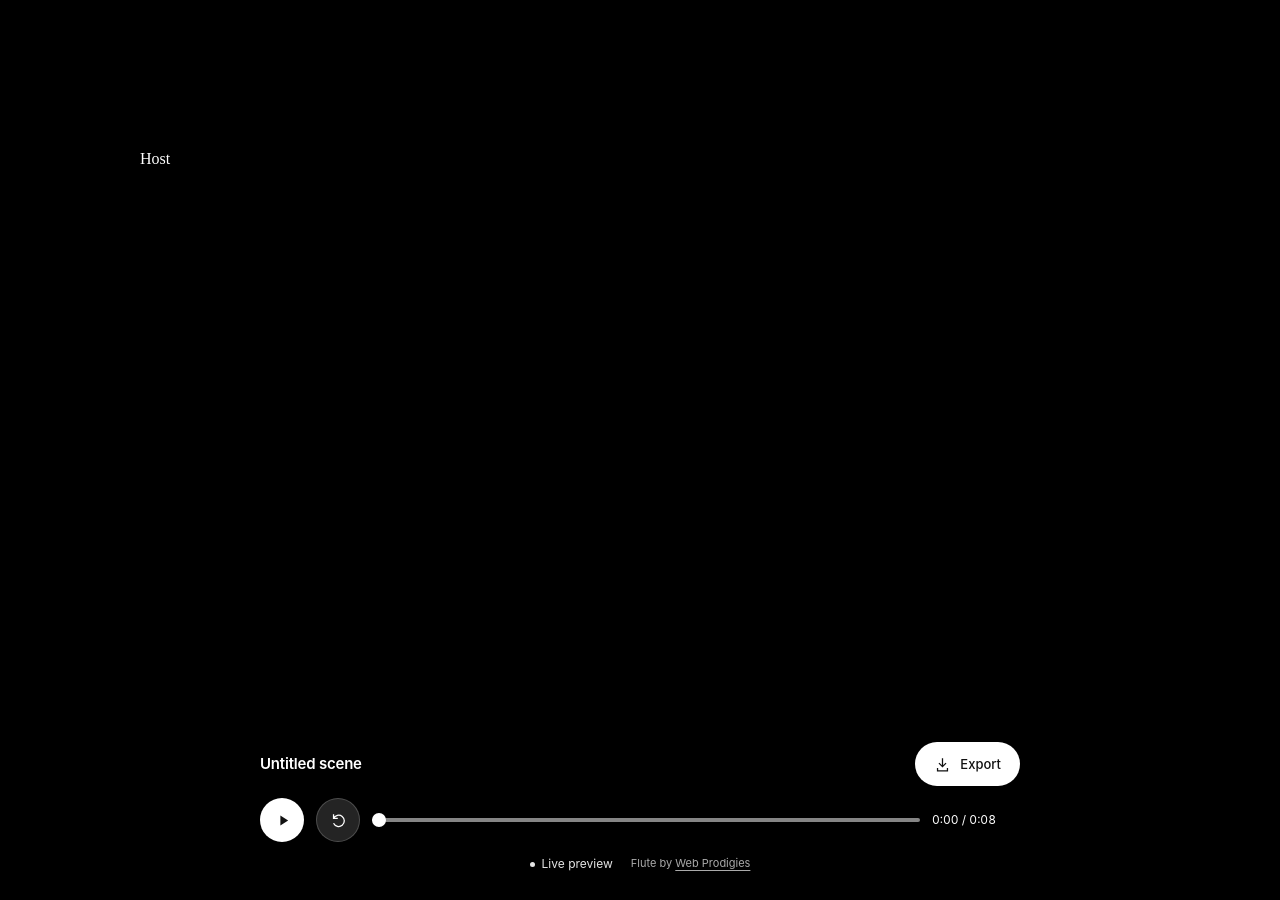
Scenario: opens export above the action row, supports frame rate and copy recovery, and restores keyboard focus on Escape
Click the heading "Export". click: (968, 764)
box: [915,742,1020,786]
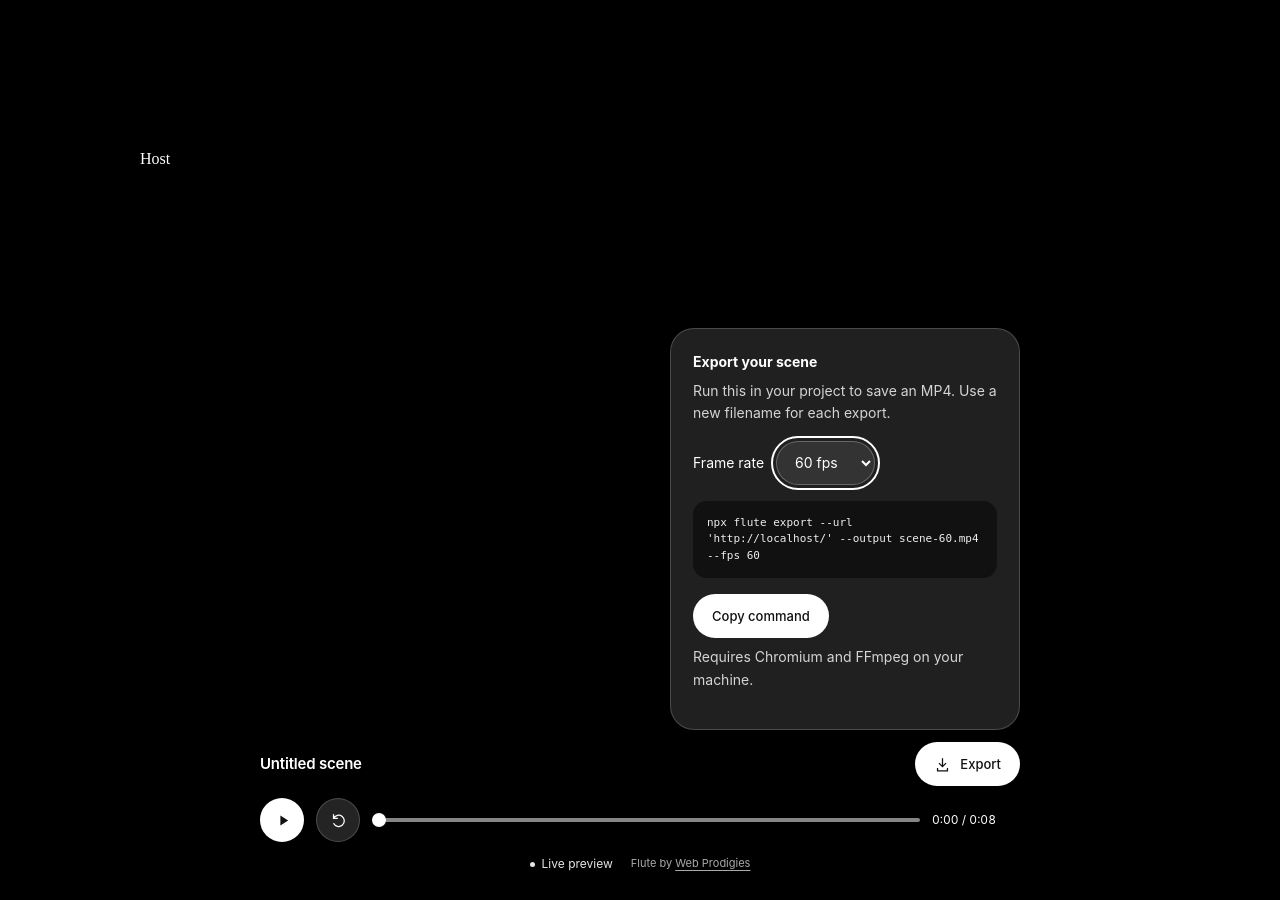
Select "30 fps" in the dropdown named "Export frame rate". click: (826, 463)
box: [776,441,875,485]
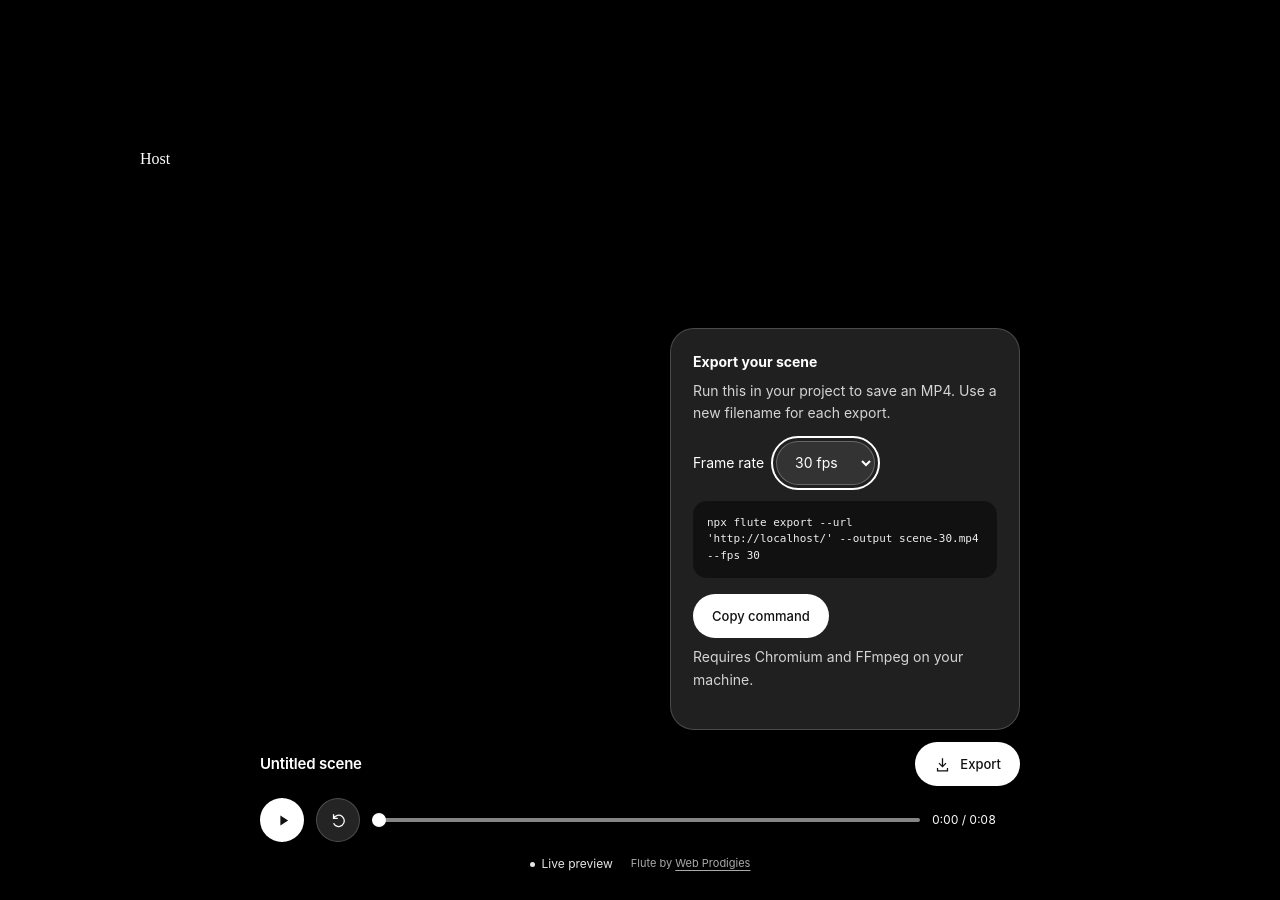
expect the element "Export your scene" shows "--fps 30": met, box [707,516,985,562]
Click the button "Copy command". click: (761, 616)
box: [693,594,829,638]
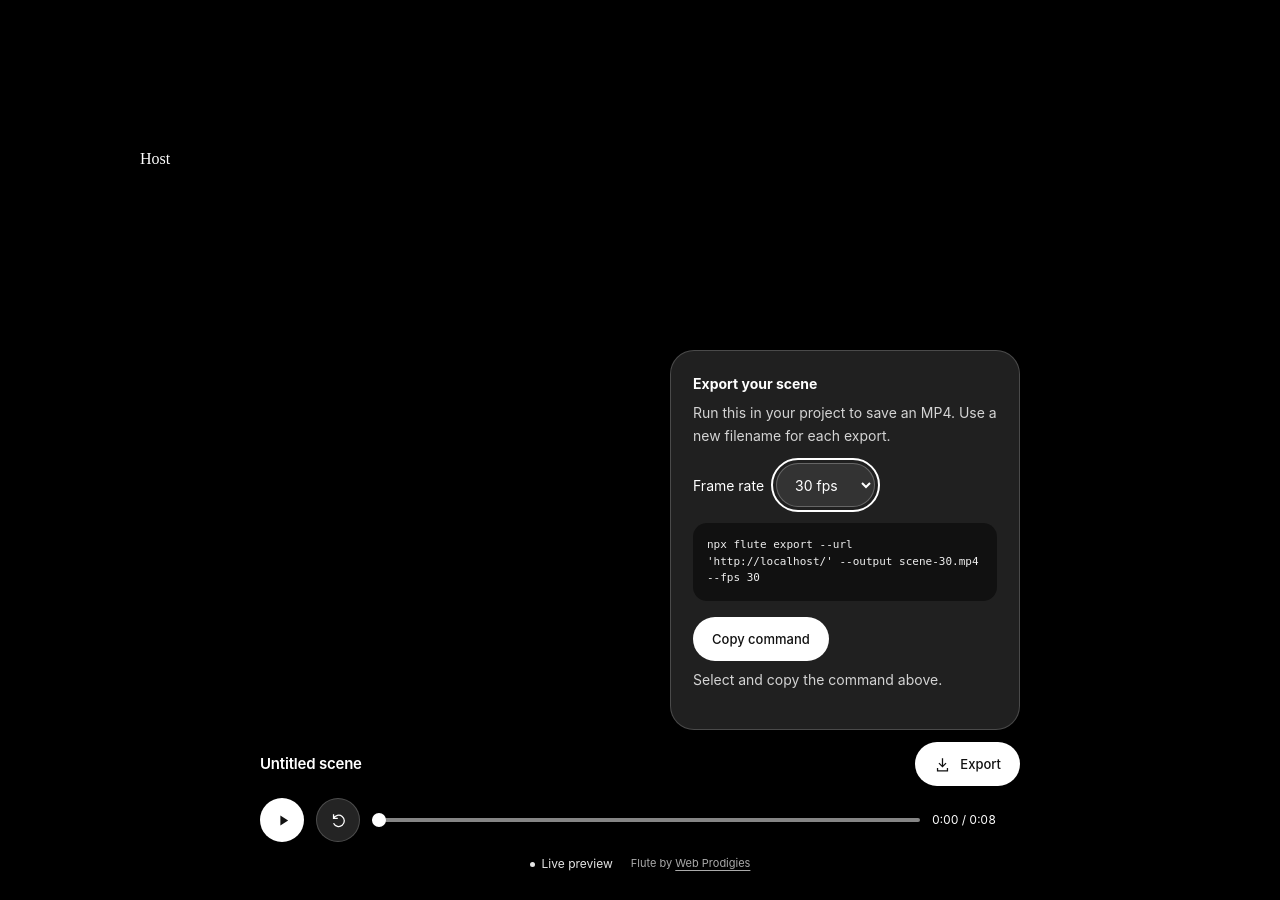
expect the message "Select and copy the command above." is shown: met, box [693,671,942,688]
Click the button "Copy command". click: (761, 639)
box: [693,617,829,661]
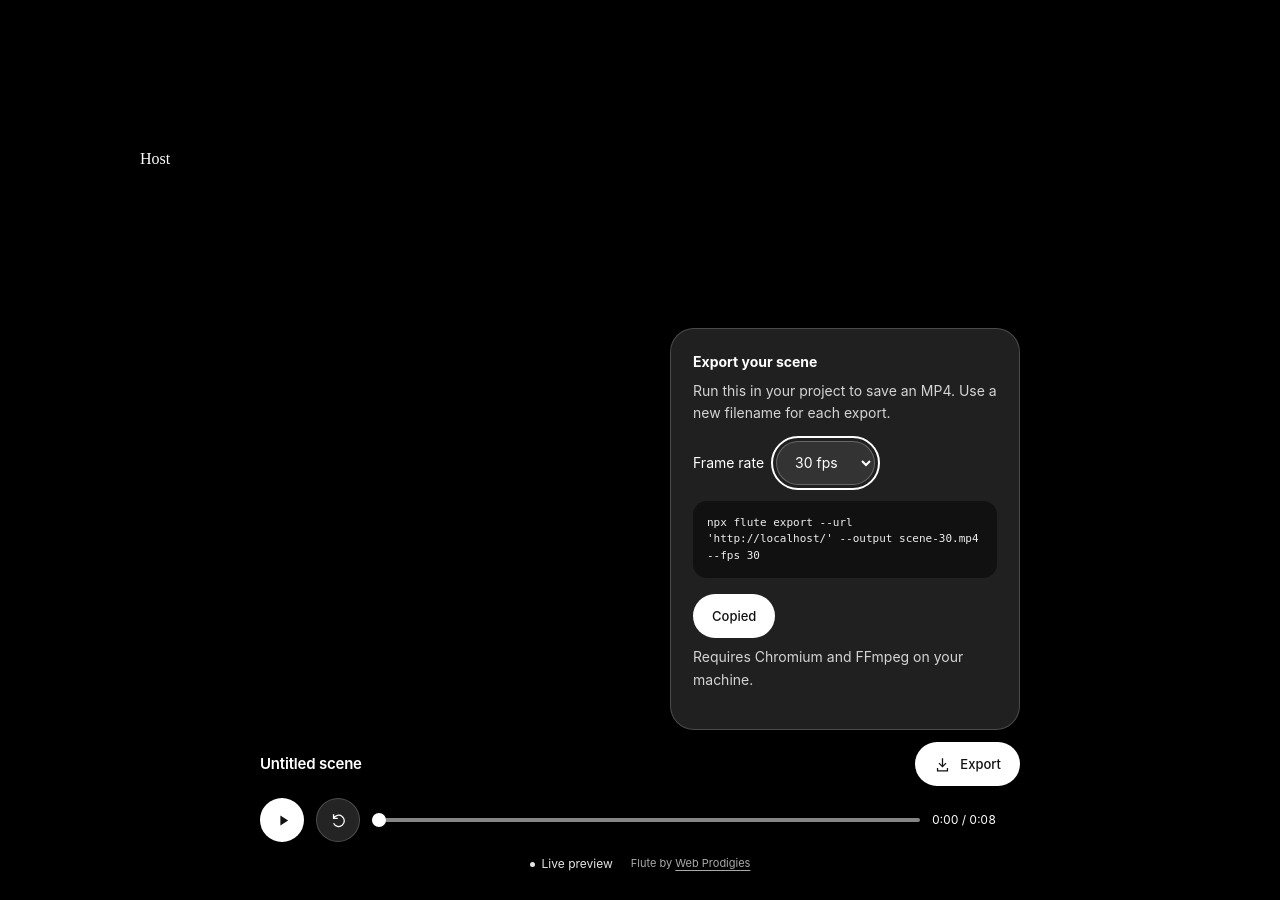
expect the button "Copied" is shown: met, box [693,594,775,638]
Press Escape in the dropdown named "Export frame rate", box [776,441,875,485]
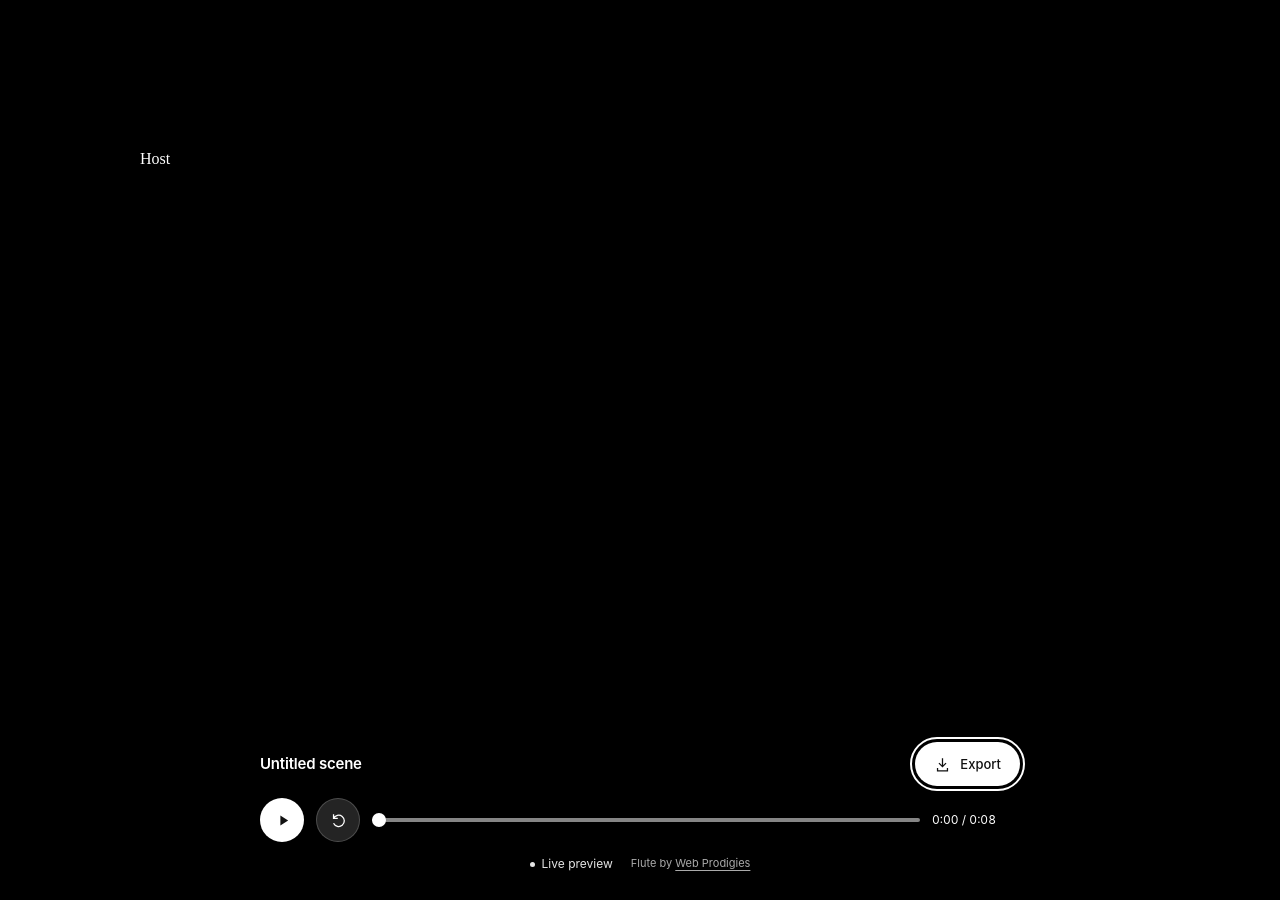
expect the text "Export your scene" is gone: met
